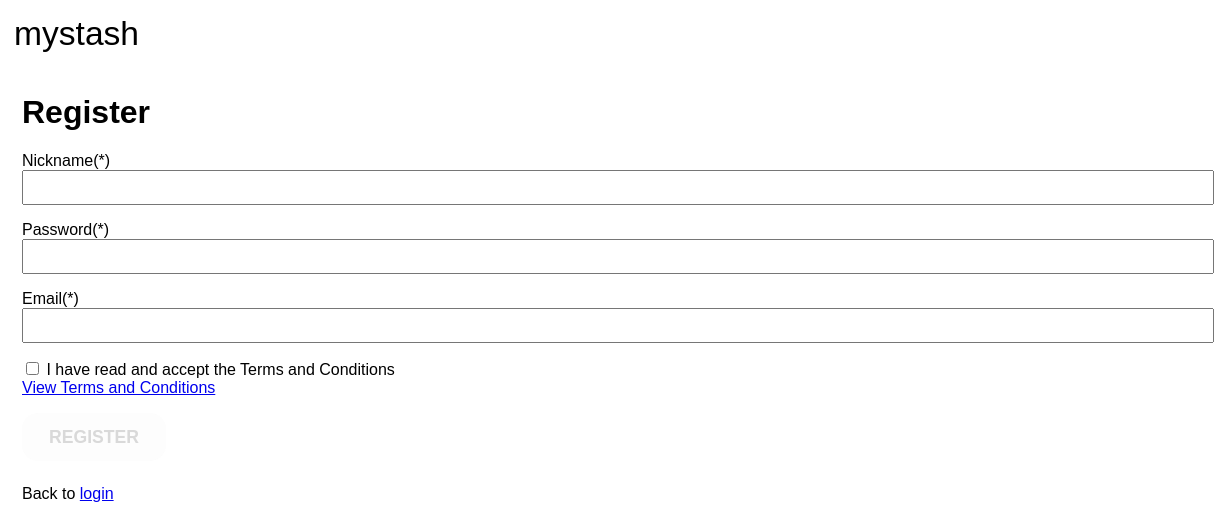
Test: Register › disables the Register button until the terms are accepted
The image size is (1231, 519).
Expected: the button "Register" is disabled, [22, 413, 166, 461]
Click the checkbox labelled "I have read and accept the Terms and Conditions" at (32, 368), box [26, 362, 39, 375]
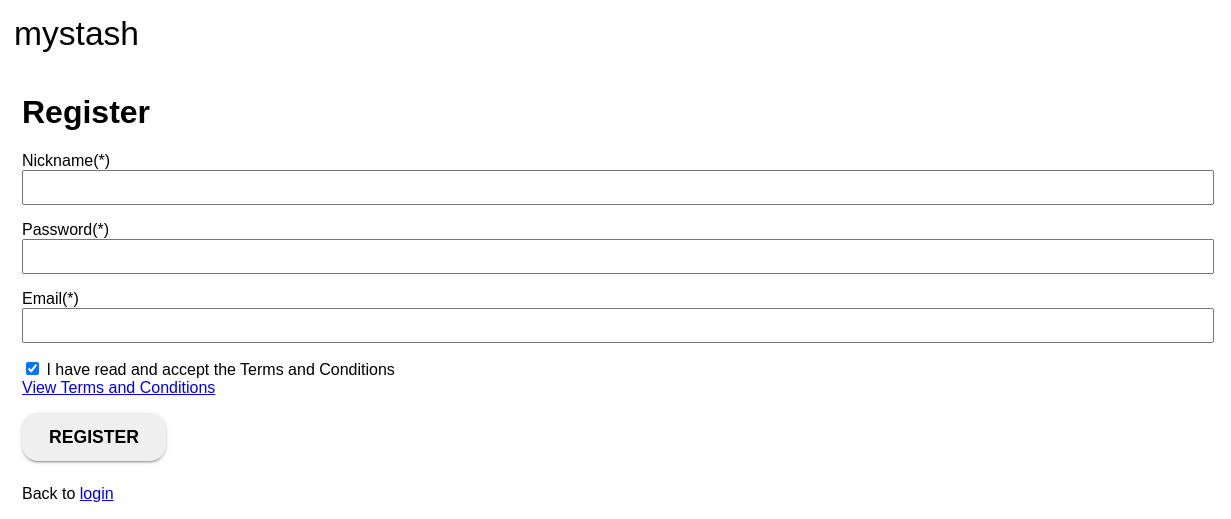
Result: the button "Register" is enabled at [22, 413, 166, 461]
